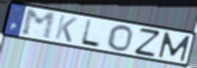K: (53, 14, 79, 44)
L: (79, 18, 102, 49)
M: (21, 8, 57, 42), (157, 31, 192, 63)
O: (106, 24, 134, 52)
Z: (133, 27, 163, 58)
